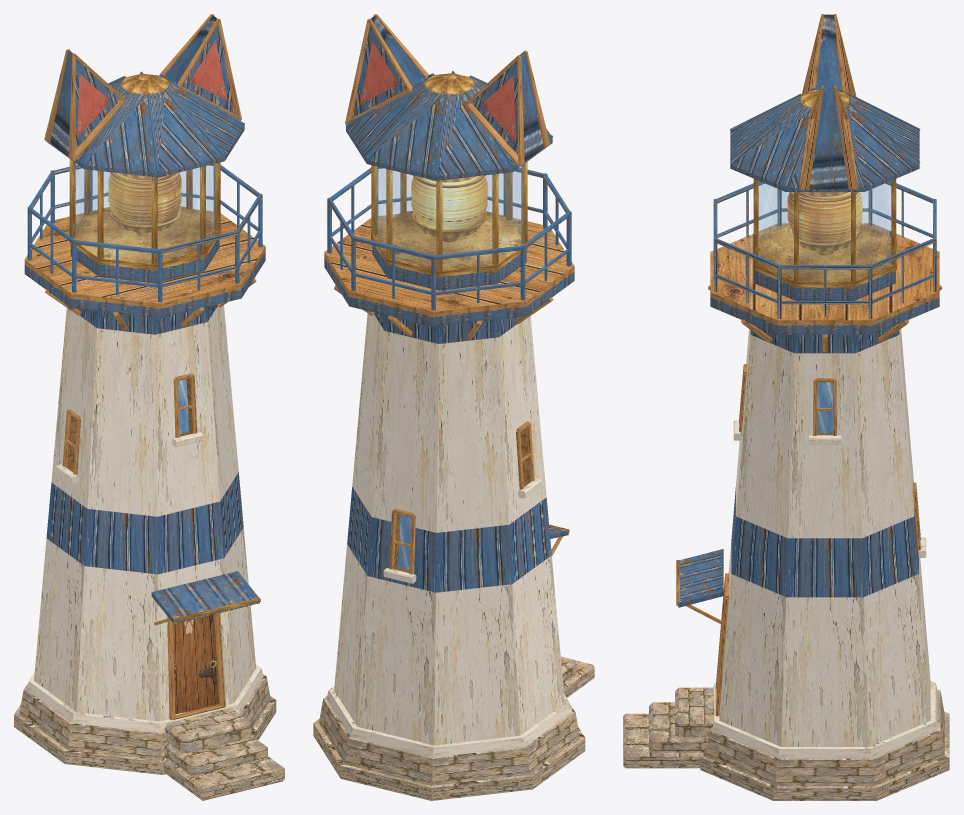
File: nyanisyarud-harbor-lighthouse.glb
3 renders of one model, left to right at view 1: azimuth 30°, elevation 25°; view 2: azimuth 150°, elevation 25°; view 3: azimuth 270°, elevation 25°, orthographic. The views are drawn at different scales.
Bounding box in the file's own units: 2.31 × 7.14 × 3.02.
Materials: 3 (2 with a texture image).
